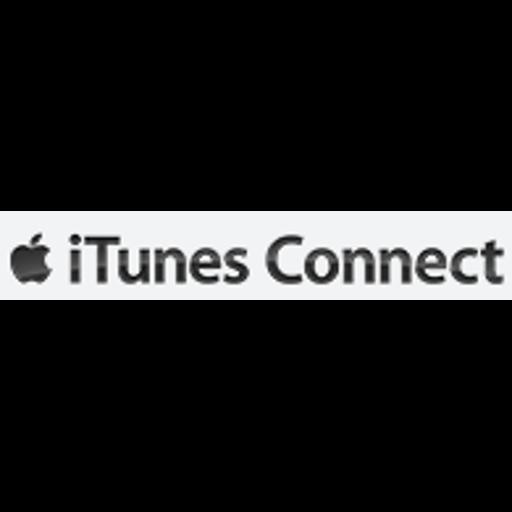Apple: (0, 211, 512, 300)
